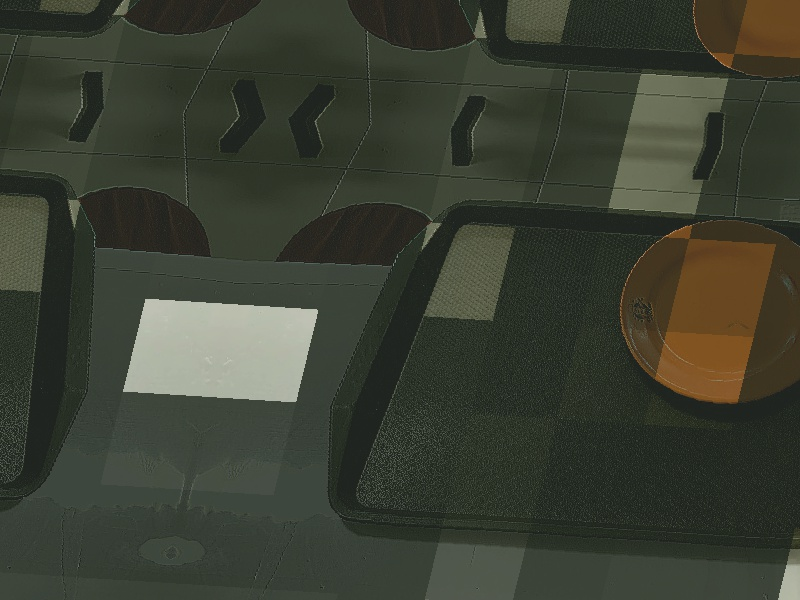dish10: (591, 210, 799, 415)
